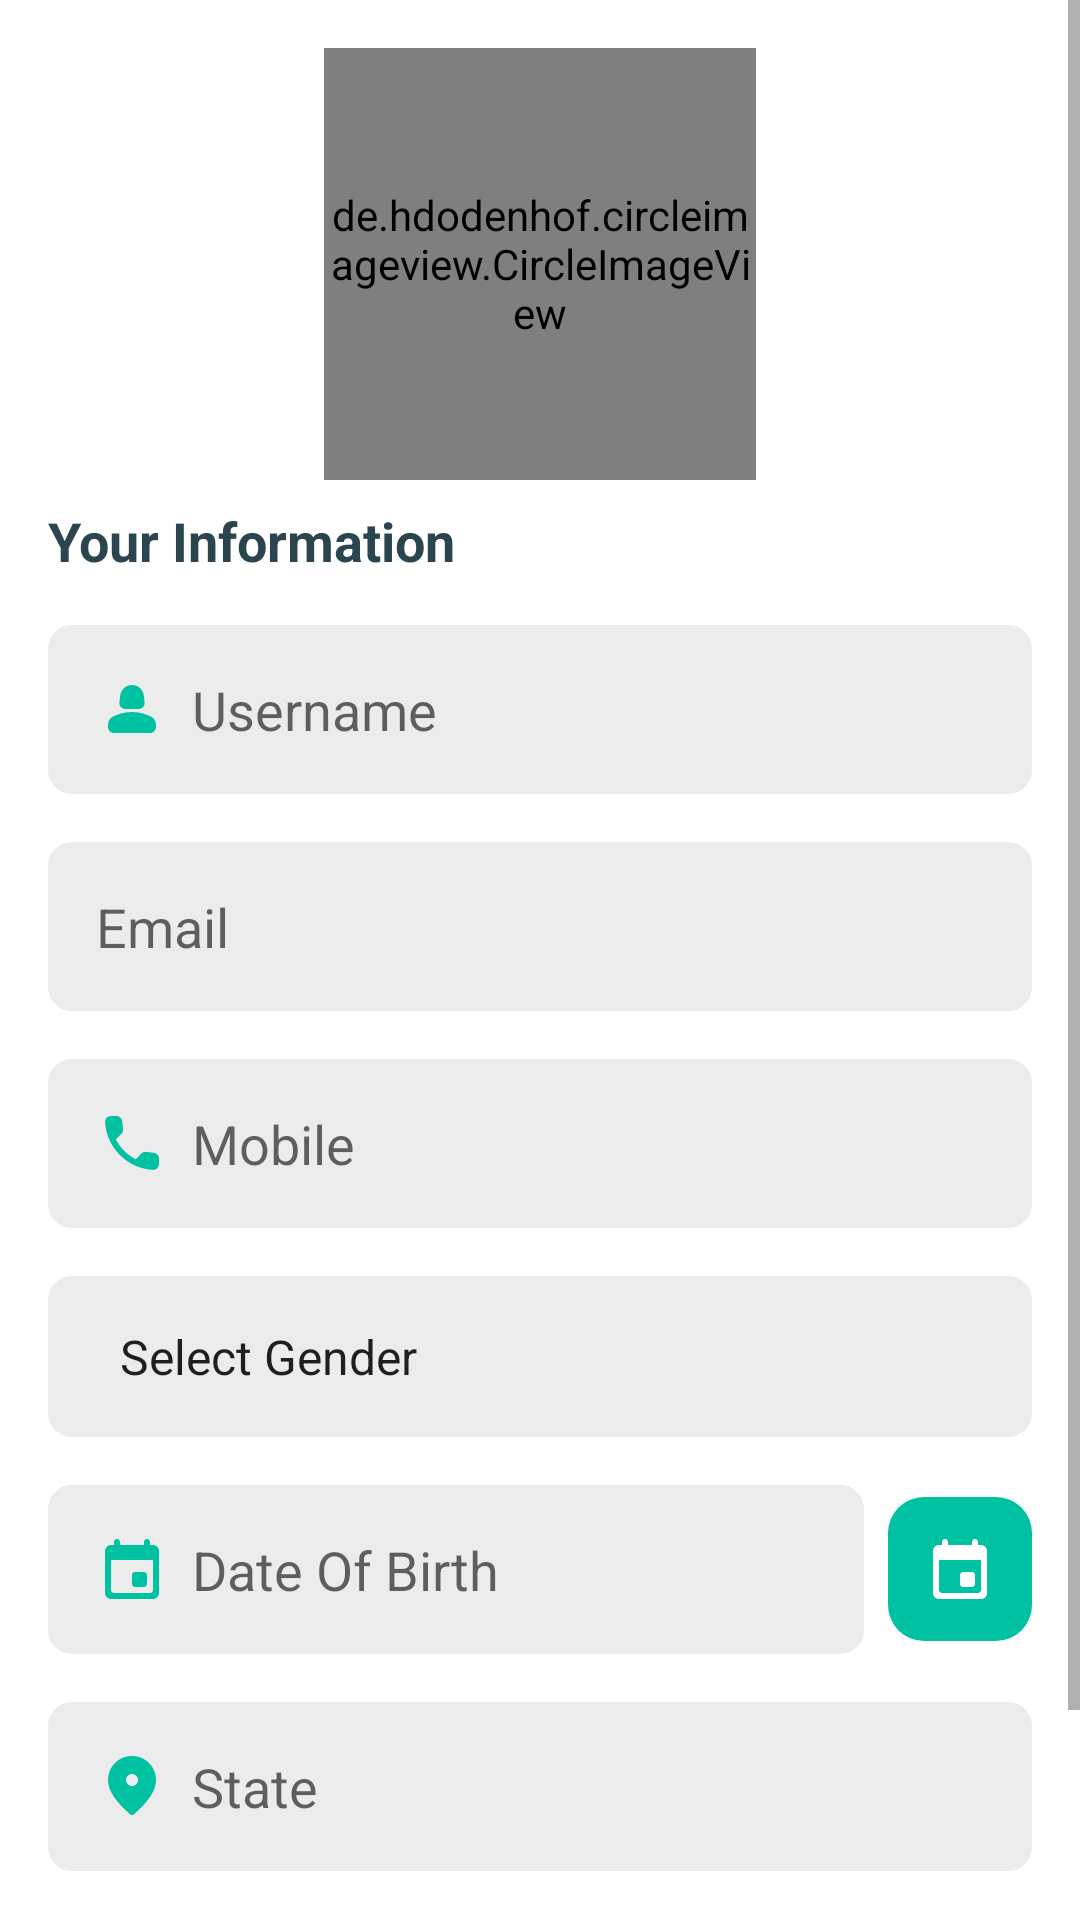

Screen size 1080 x 1920. Icon name, then its box in pixels as (x1, y1, x2, y2):
dob calendar: (888, 1497, 1032, 1641)
